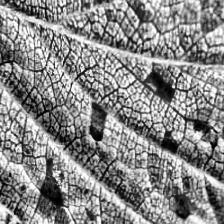Angular Leafspot: (0, 69, 224, 224)
